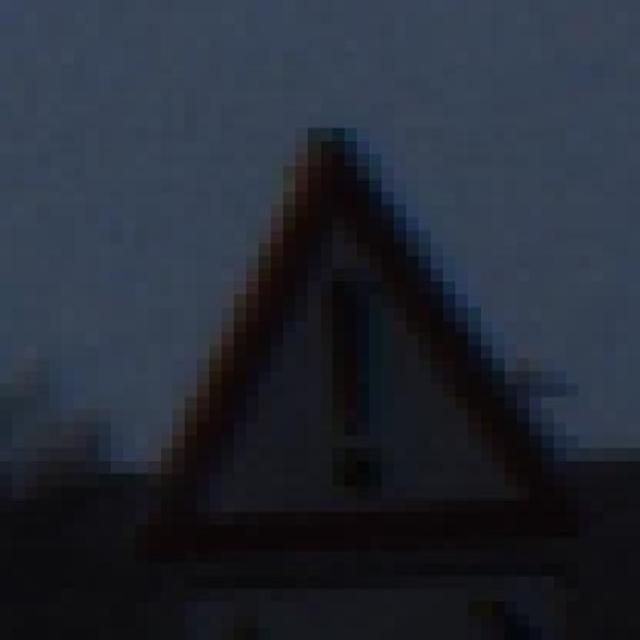Attention Please-: (86, 115, 579, 614)
